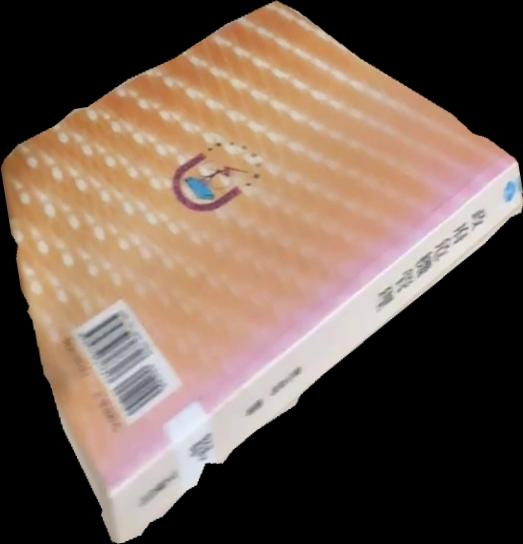flat: (1, 1, 523, 544)
